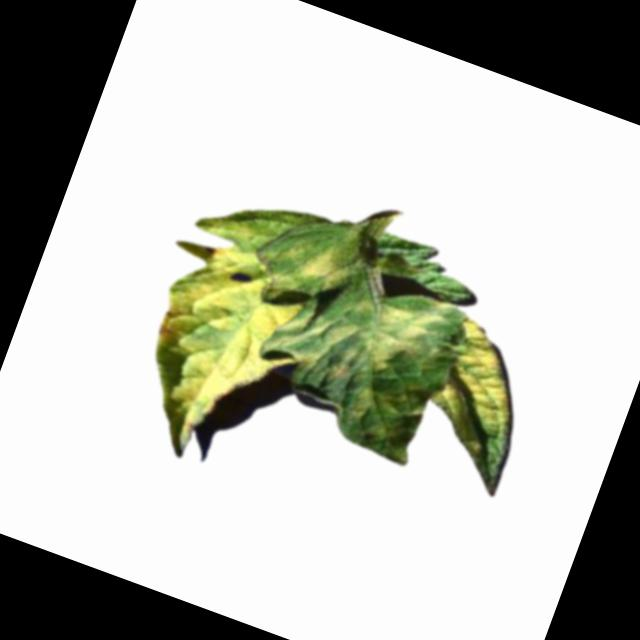Leaf_Mold: (115, 197, 334, 475), (412, 311, 538, 468), (342, 274, 452, 388), (337, 368, 433, 469), (262, 292, 356, 379), (301, 242, 355, 296)
